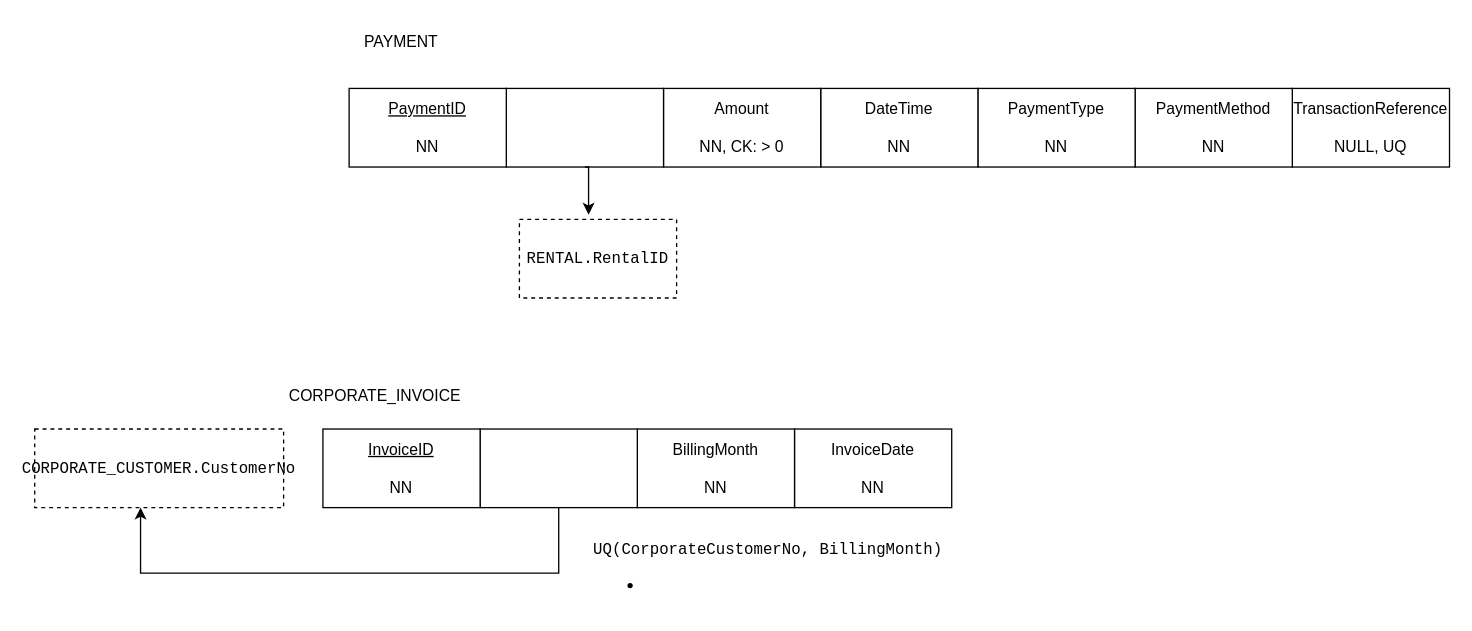
The diagram is 1472 pixels wide and 631 high, and some of its shapes have lost their labels. The shapes that lost their labels are listed below. From the top down, each one's centre as x and y in pixels, then its label:
the point at 584,127: RentalID FK NN
the point at 558,468: CorporateCustomerNo FK NN
